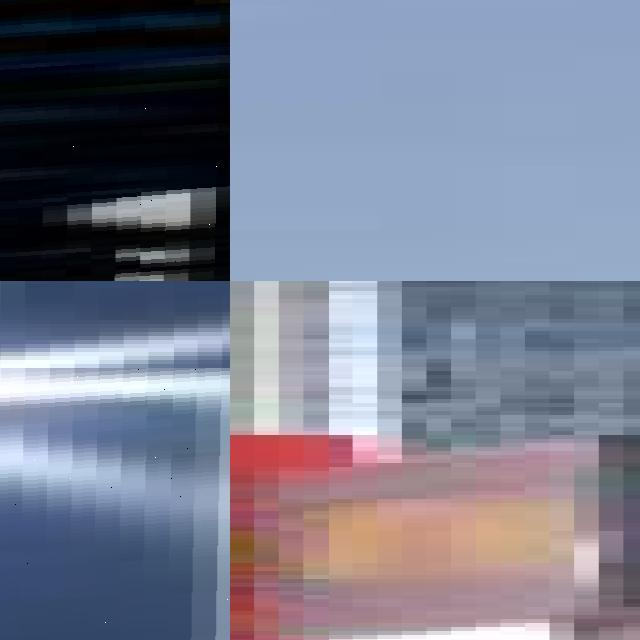street light: (0, 0, 230, 281), (0, 368, 230, 640)
